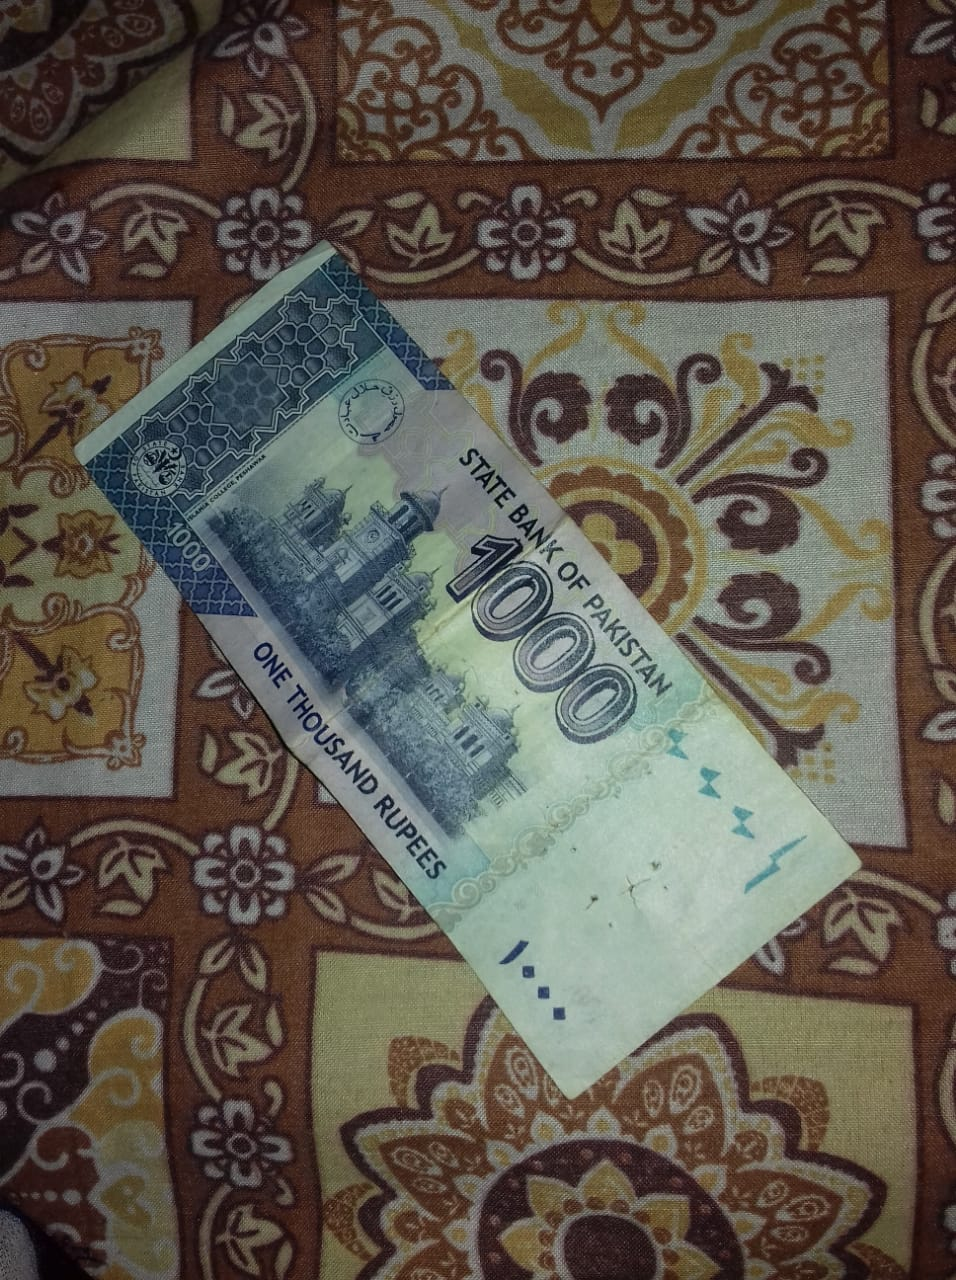1000 rupee: (72, 199, 903, 1106)
